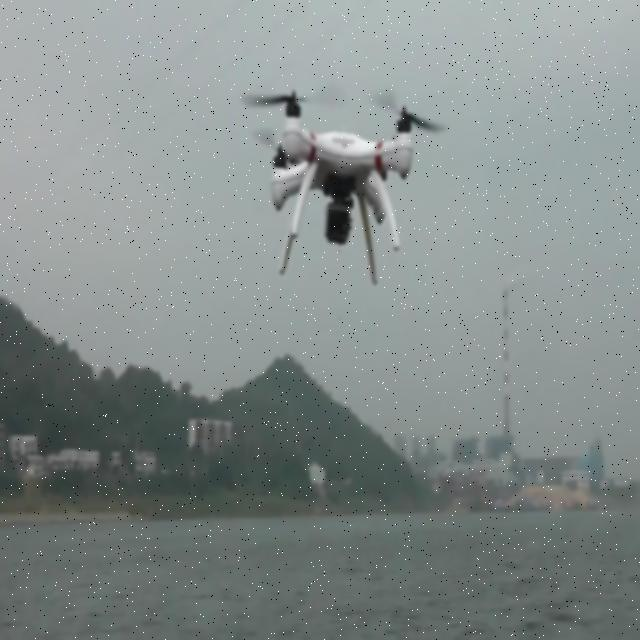UAV: (270, 86, 415, 288)
